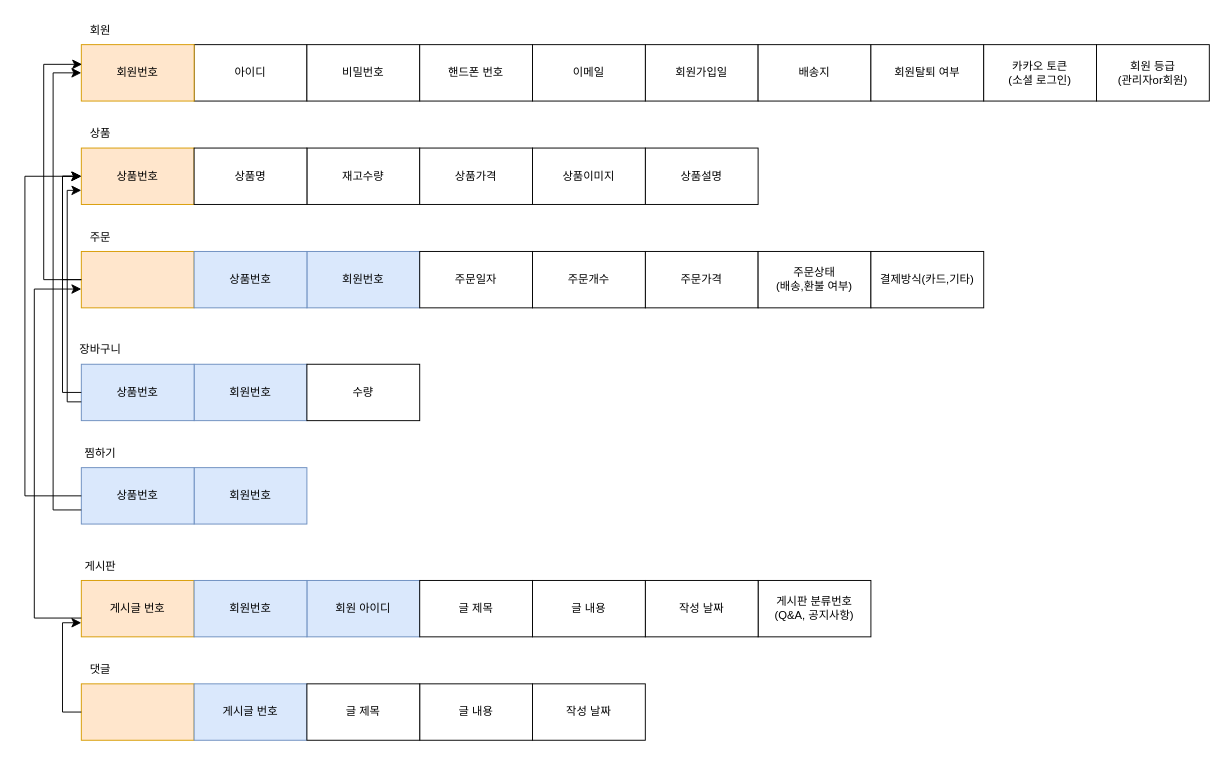
Image size: 1226x757. Some labels were removed from this diagram. Here are the shapes that lost their labels. From the top down, the centre of each, then its label:
point (137, 279): 주문번호
point (137, 711): 댓글 번호
